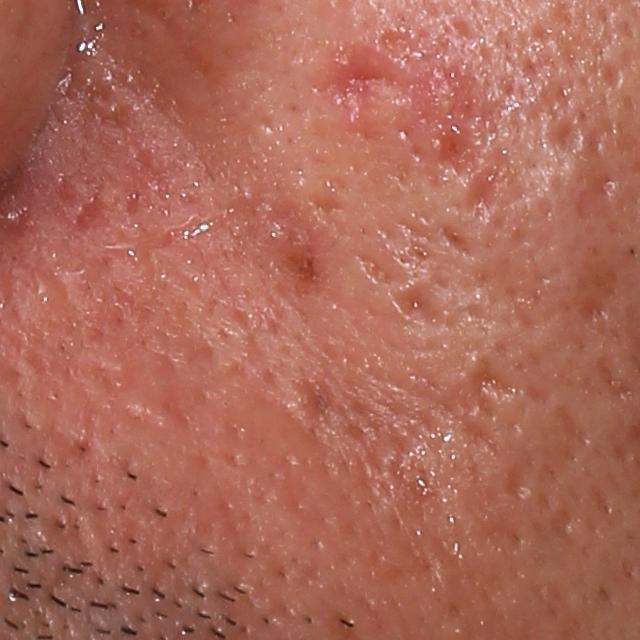atrophic_scar: (315, 50, 408, 130), (468, 359, 528, 424), (570, 172, 629, 238), (391, 282, 453, 333), (592, 351, 636, 408), (461, 163, 492, 225), (435, 216, 477, 259), (557, 399, 589, 450), (550, 117, 588, 154), (549, 506, 580, 550), (306, 193, 342, 229), (505, 457, 533, 501), (356, 255, 394, 287), (578, 295, 609, 330), (599, 57, 624, 94)
